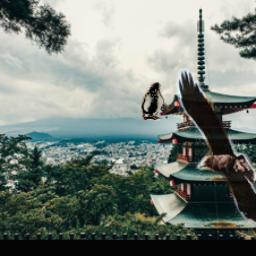Crow: (177, 69, 256, 231)
Woodpecker: (142, 83, 169, 121)
